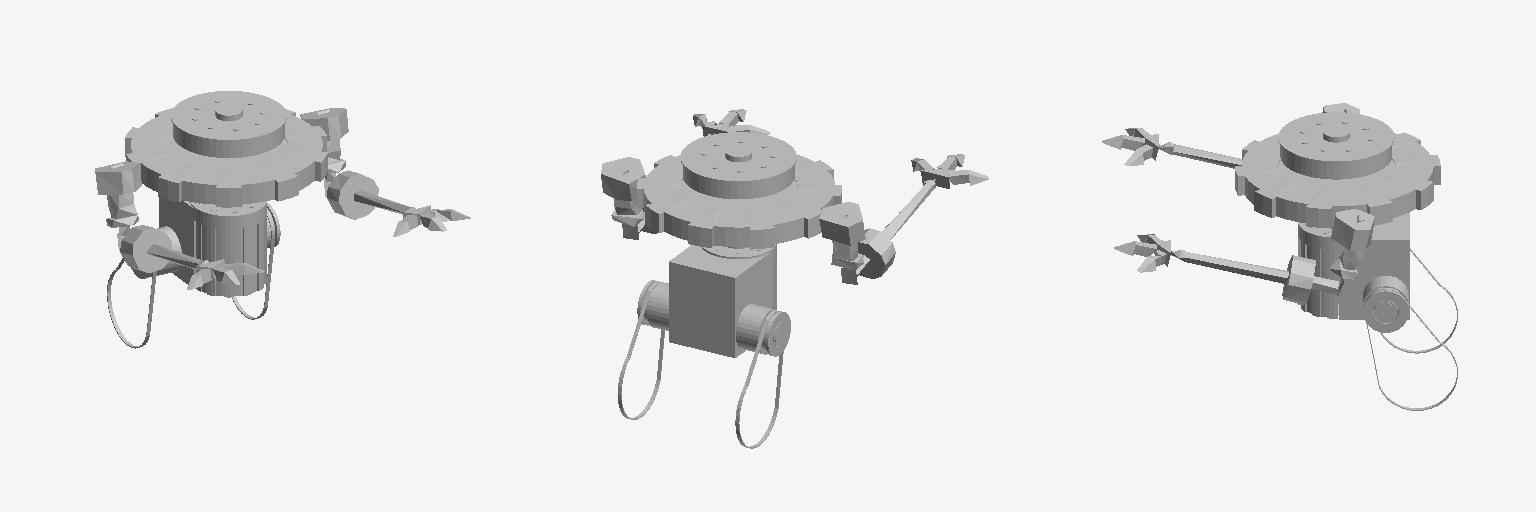
The model's file is RobotRece_000007.obj.
3 renders of one model, left to right at view 1: azimuth 30°, elevation 25°; view 2: azimuth 150°, elevation 25°; view 3: azimuth 270°, elevation 25°, orthographic.
Visible parts, largest first — view 1: Cylinder.007, Cube_Cube.003; view 2: Cylinder.007, Cube_Cube.003; view 3: Cylinder.007, Cube_Cube.003.
Part boxes in pixels (x1,y1,x2,y2): Cylinder.007: (107,91,327,348); Cube_Cube.003: (95,108,470,289); Cylinder.007: (618,132,841,448); Cube_Cube.003: (601,109,988,284); Cylinder.007: (1235,112,1457,410); Cube_Cube.003: (1102,103,1374,305).
Bounding box in the file's own units: 4.59 × 3.78 × 4.87.